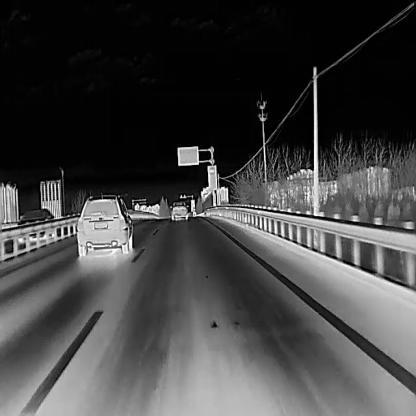car: (75, 192, 132, 255), (16, 207, 56, 242), (170, 200, 187, 219)
